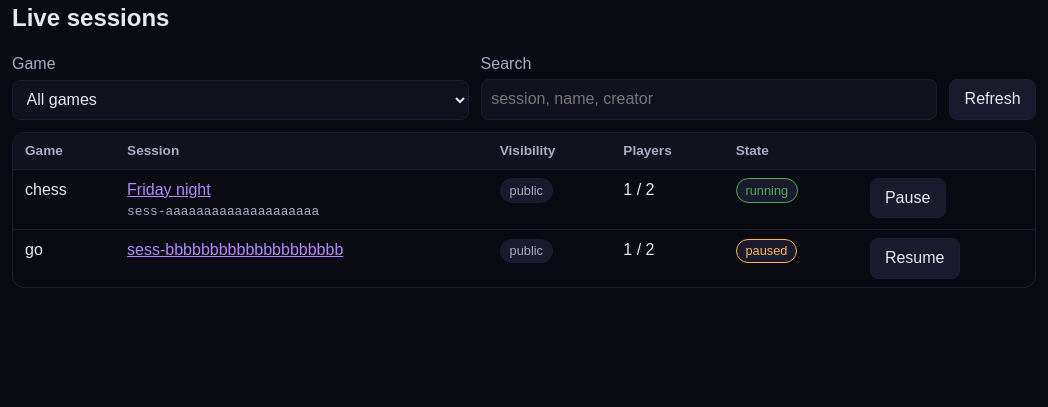
it: GamesAdminLiveComponent (A2) › names the BFF, not the gateway, when pause is refused without X-Route-Denied
Step 1. Click the button "Pause" → (908, 198), box [870,178,946,218]
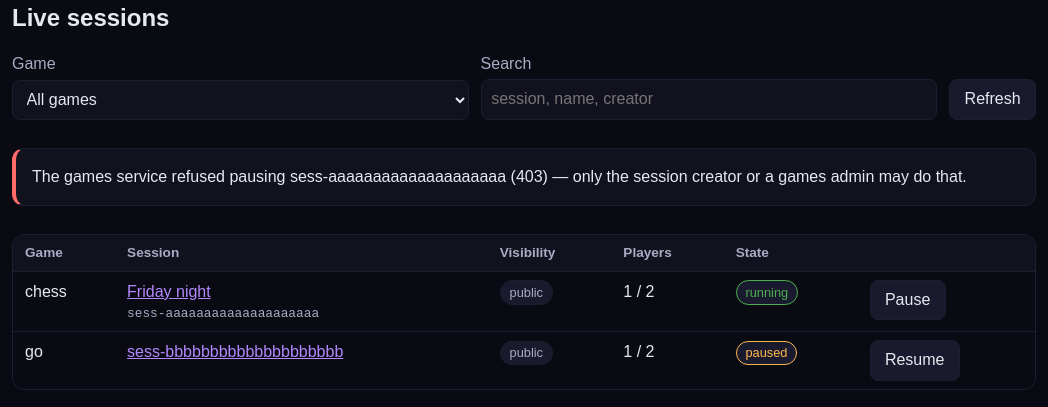
Expected: the message with test id "games-admin-live-error" shows "only the session creator or a games admin", [32,168,967,185]
